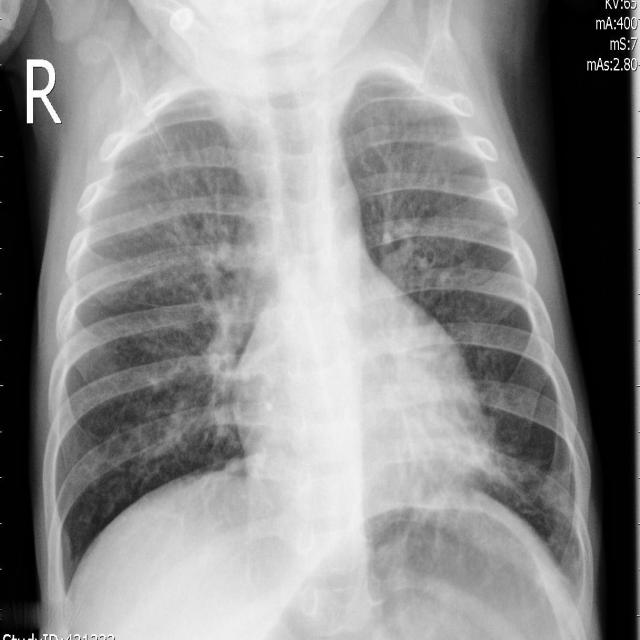low-pneumonia: (156, 137, 272, 462), (373, 177, 457, 312)
